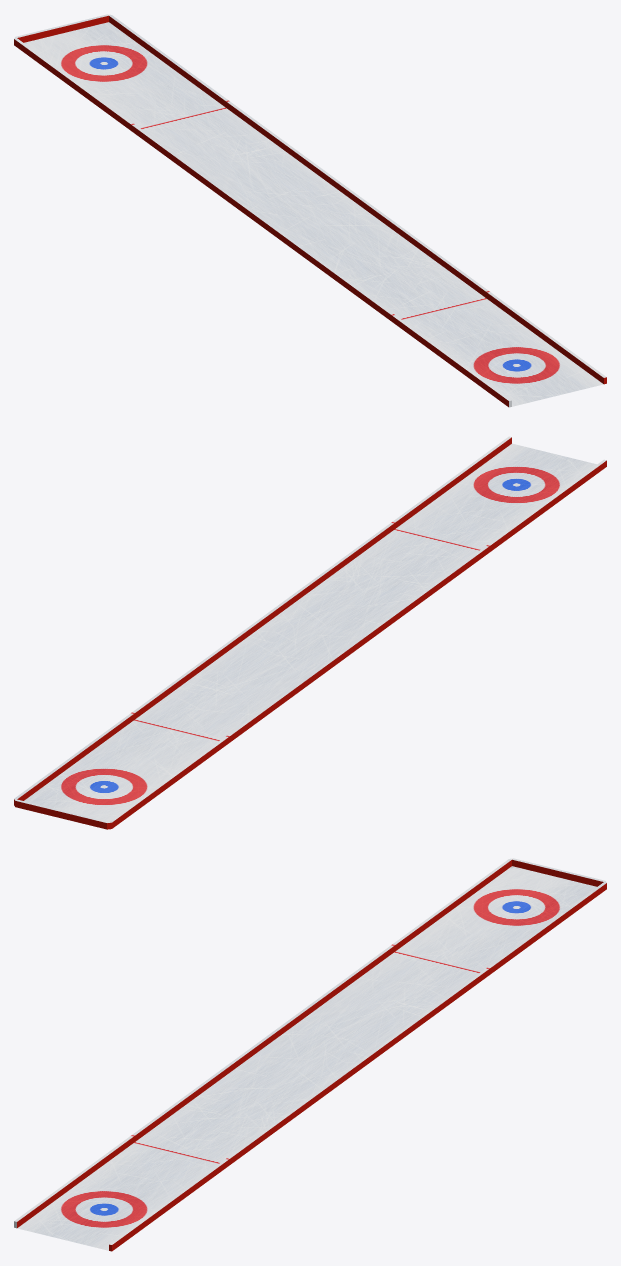
File: arena.dae
3 views of the same model, one above another, from view 1: azimuth 30°, elevation 25°; view 2: azimuth 150°, elevation 25°; view 3: azimuth 330°, elevation 25° (orthographic).
Parts seen in each view (by area): view 1: Plane; view 2: Plane; view 3: Plane.
Part boxes in pixels (<box>): Plane: <box>14,14,606,407</box>; Plane: <box>14,436,606,829</box>; Plane: <box>14,858,606,1251</box>.
Bounding box in the file's own units: 4.8 × 42.15 × 0.3.
Materials: 2 (1 with a texture image).
